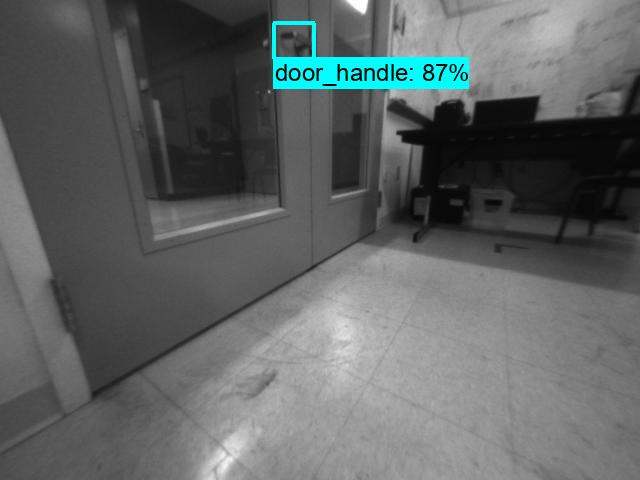door_handle: (274, 26, 312, 56)
